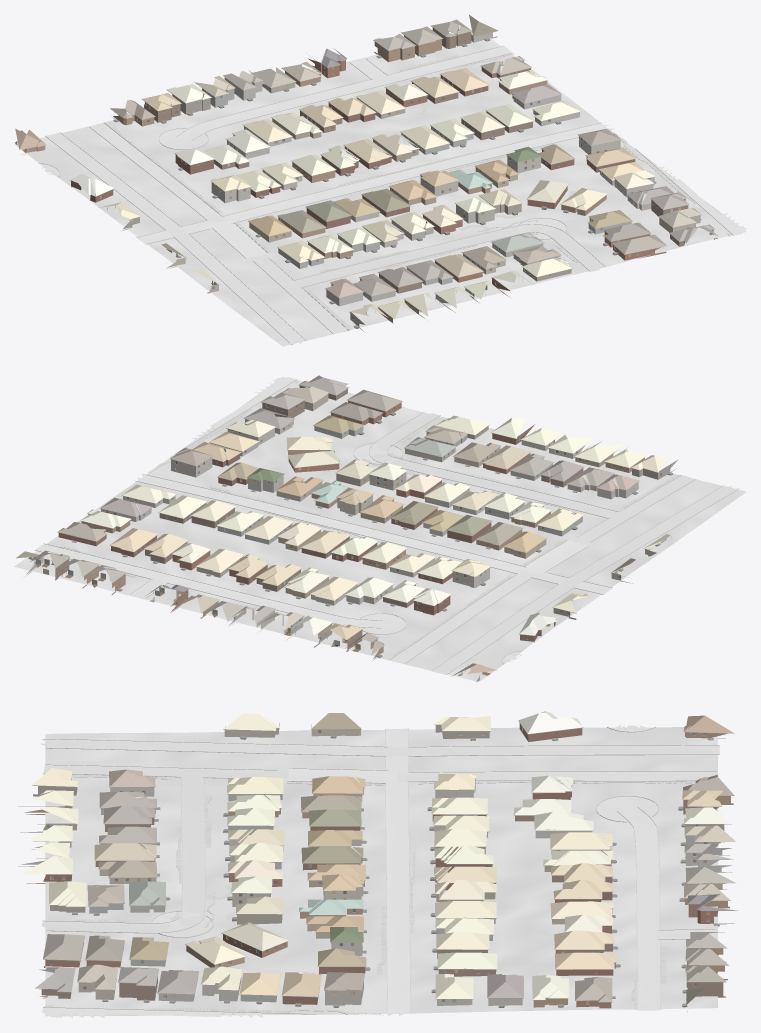
The picture shows the model from 3 angles, top to bottom: view 1: azimuth 30°, elevation 25°; view 2: azimuth 150°, elevation 25°; view 3: azimuth 270°, elevation 25°; orthographic projection. The views are drawn at different scales.
Parts seen in each view (by area): view 1: ground, roof, wall, concrete, asphalt, detail, wall_stucco, curb, wall_stone, walk, glass; view 2: ground, roof, concrete, wall, asphalt, detail, wall_stucco, curb, wall_stone, walk, room, glass; view 3: ground, roof, concrete, wall, asphalt, detail, curb, wall_stucco, walk, wall_stone, mark_w, glass.
Boxes of the visible parts, x1,y1,x2,y2 form: ground: (15,31,746,346); roof: (15,14,717,319); wall: (21,28,713,331); concrete: (42,46,746,287); asphalt: (46,123,347,345); detail: (25,26,717,328); wall_stucco: (166,89,700,312); curb: (38,45,733,344); wall_stone: (211,29,654,306); walk: (105,53,732,330); glass: (138,53,689,319); ground: (14,377,746,681); roof: (16,375,670,675); concrete: (35,377,618,662); wall: (55,385,677,660); asphalt: (391,475,739,674); detail: (28,385,672,675); wall_stucco: (171,394,656,639); curb: (35,379,738,674); wall_stone: (25,419,638,631); walk: (47,379,680,659); room: (35,406,572,681); glass: (90,394,661,644); ground: (45,727,717,1016); roof: (21,711,738,1004); concrete: (42,724,714,1018); wall: (20,723,734,1008); asphalt: (40,739,719,783); detail: (18,721,736,1007); curb: (43,726,719,1014); wall_stucco: (31,723,731,1005); walk: (44,774,699,1014); wall_stone: (18,779,732,1011); mark_w: (43,739,717,1013); glass: (46,730,709,1001).
Bounding box in the file's own units: 262 × 13.99 × 272.
